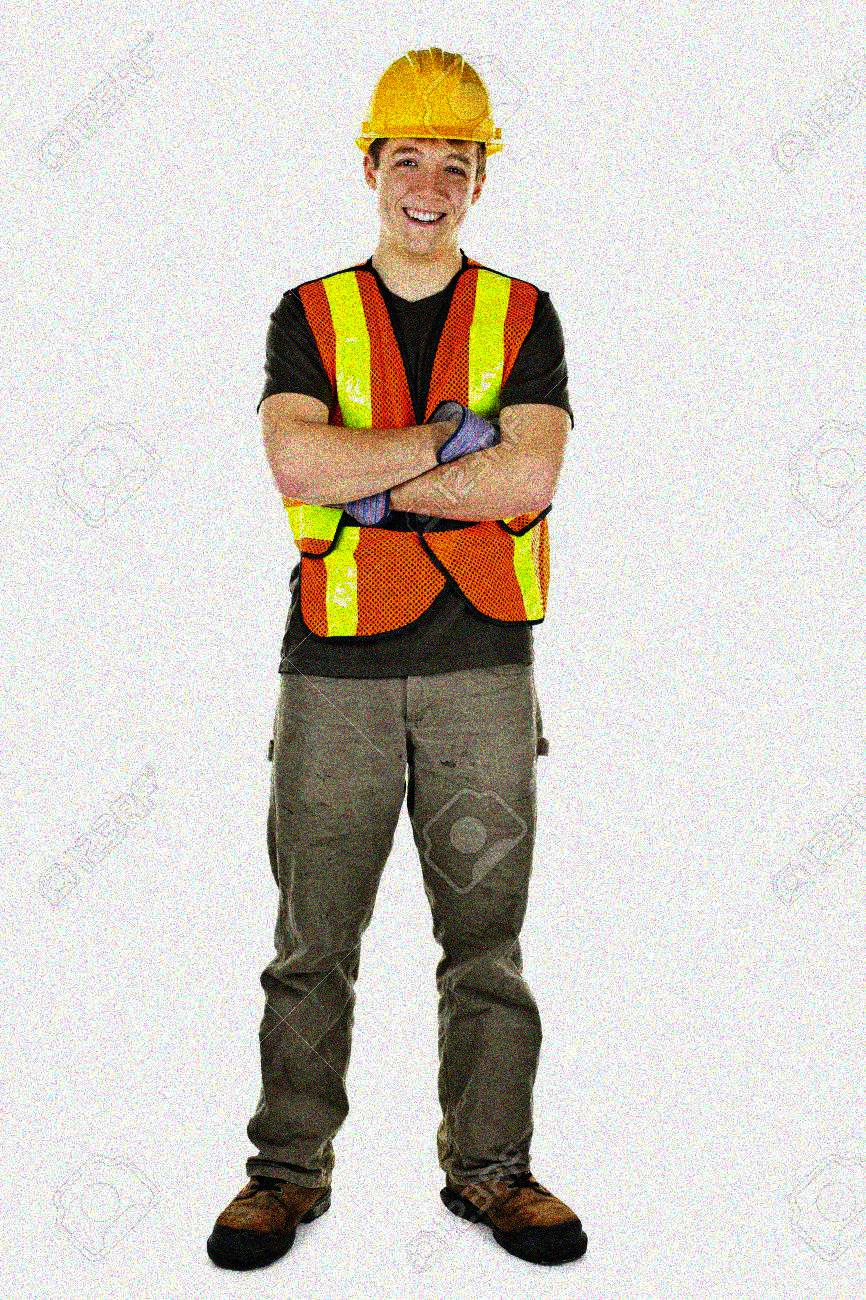helmet: (354, 40, 507, 254)
